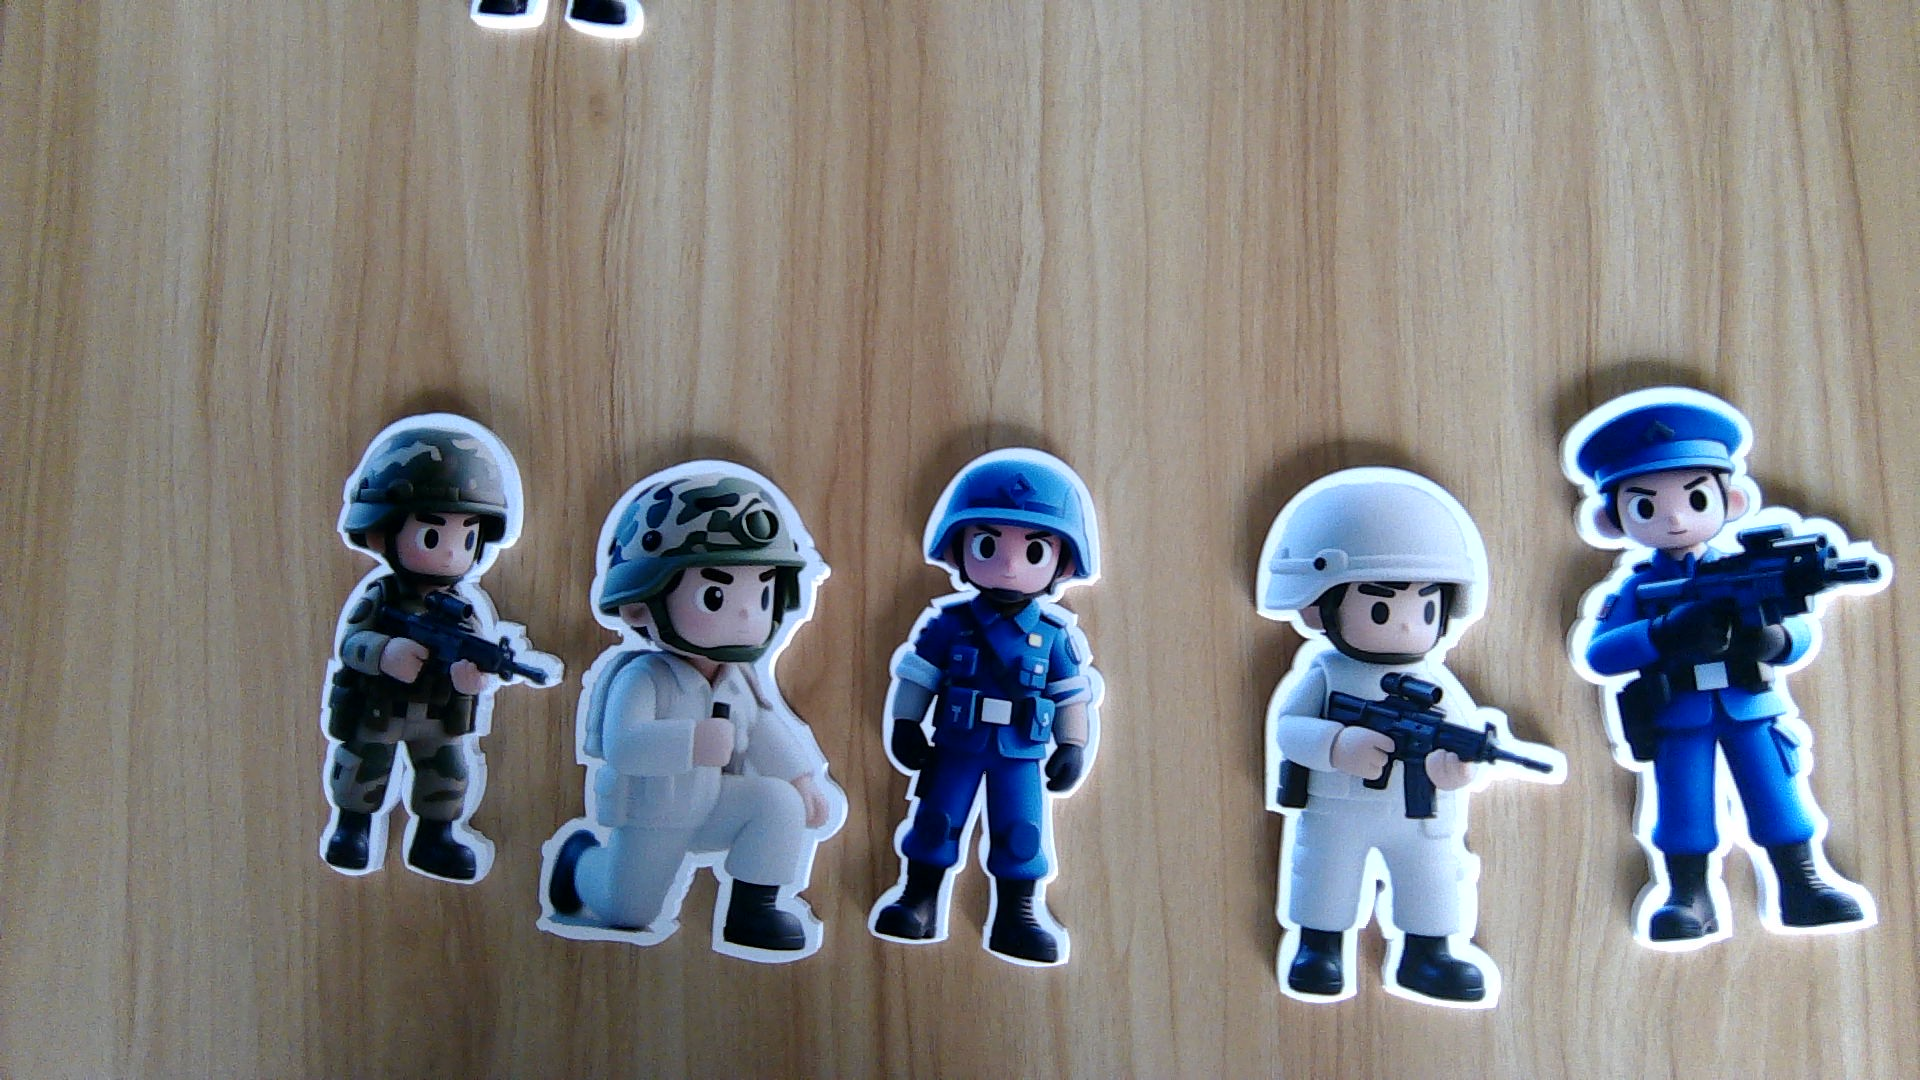人质: (1250, 663, 1547, 1015), (533, 657, 851, 963)
友军: (309, 576, 539, 887)
敌人2: (1559, 553, 1898, 953), (866, 600, 1106, 969)
